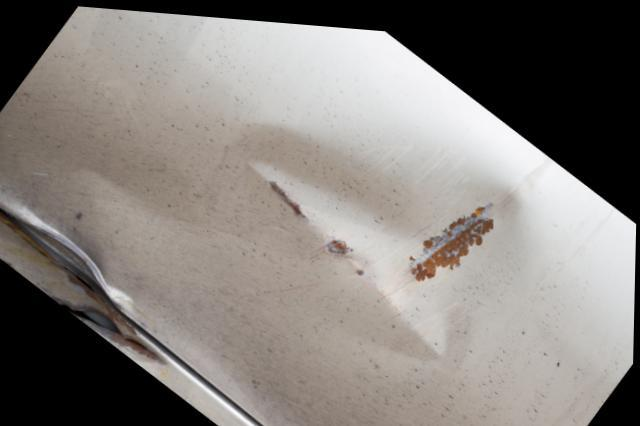crack: (63, 305, 152, 352), (59, 263, 95, 294)
dent: (214, 125, 531, 364), (0, 157, 150, 299)
